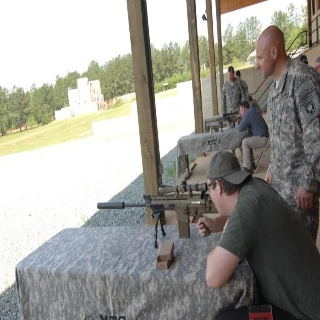rifle: (97, 182, 222, 240), (204, 110, 241, 132)
